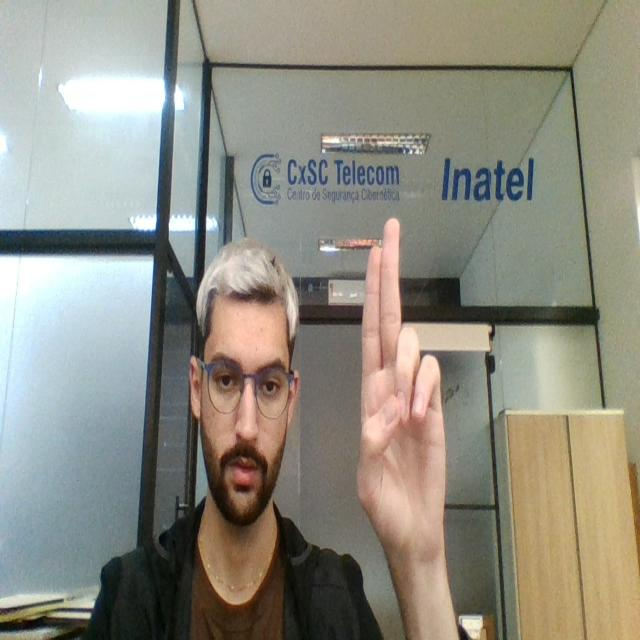U: (353, 215, 449, 574)
